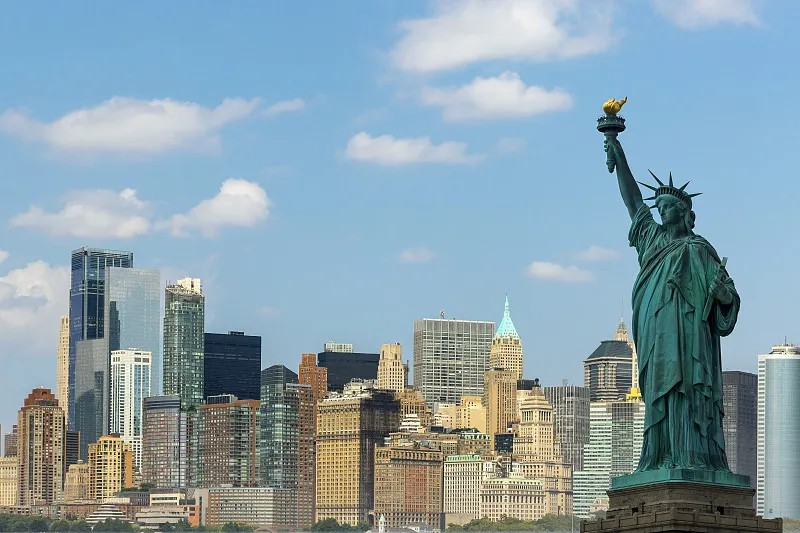SL: (580, 96, 783, 533)
